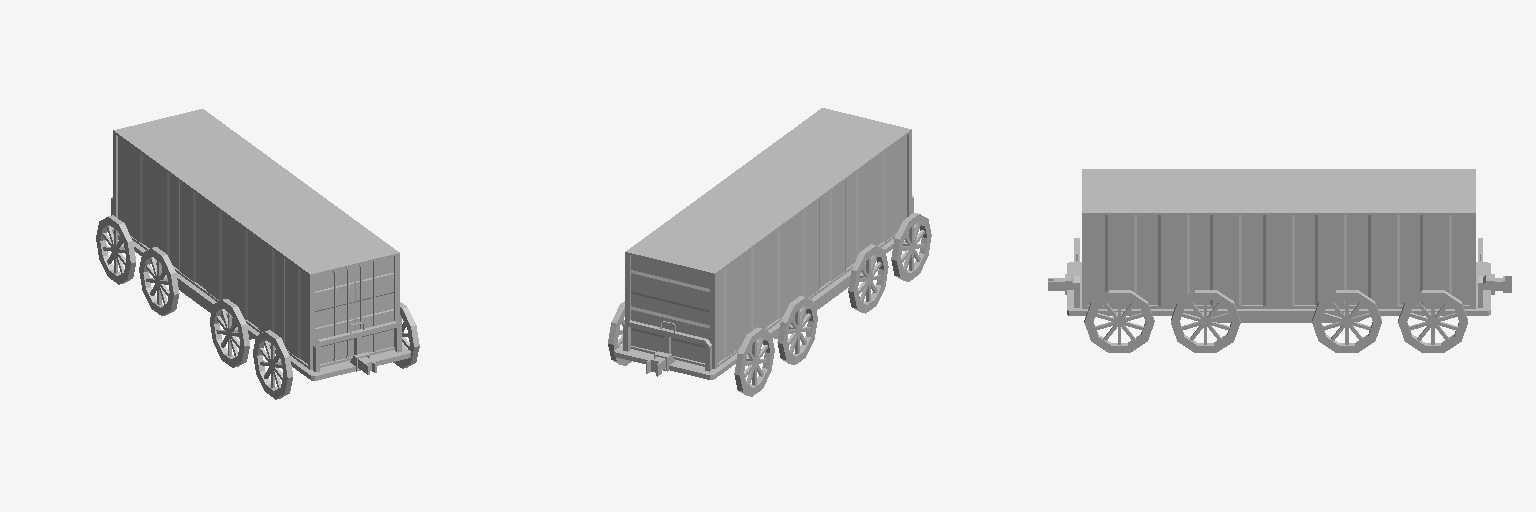
Rendered from wagonandcontainer_onemesh.obj.
3 renders of one model, left to right at view 1: azimuth 30°, elevation 25°; view 2: azimuth 150°, elevation 25°; view 3: azimuth 270°, elevation 25°, orthographic.
Parts seen in each view (by area): view 1: Plane.011_Plane.012_Plane.011_Plane.013; view 2: Plane.011_Plane.012_Plane.011_Plane.013; view 3: Plane.011_Plane.012_Plane.011_Plane.013.
Boxes of the visible parts, <box> form: Plane.011_Plane.012_Plane.011_Plane.013: <box>96,109,419,399</box>; Plane.011_Plane.012_Plane.011_Plane.013: <box>608,108,931,396</box>; Plane.011_Plane.012_Plane.011_Plane.013: <box>1048,169,1511,352</box>.
Bounding box in the file's own units: 5.31 × 4.99 × 16.18.